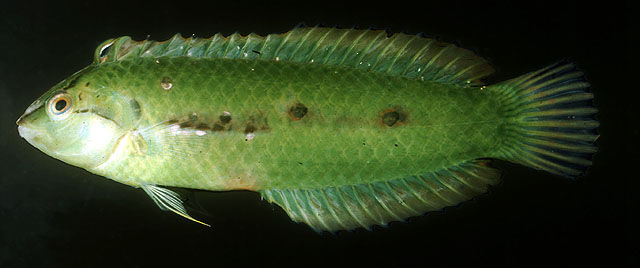fish: (16, 25, 600, 232)
